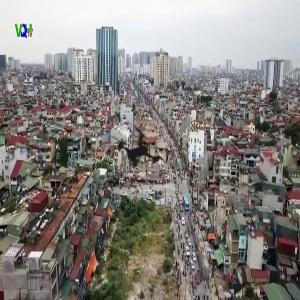drone: (98, 108, 184, 194)
